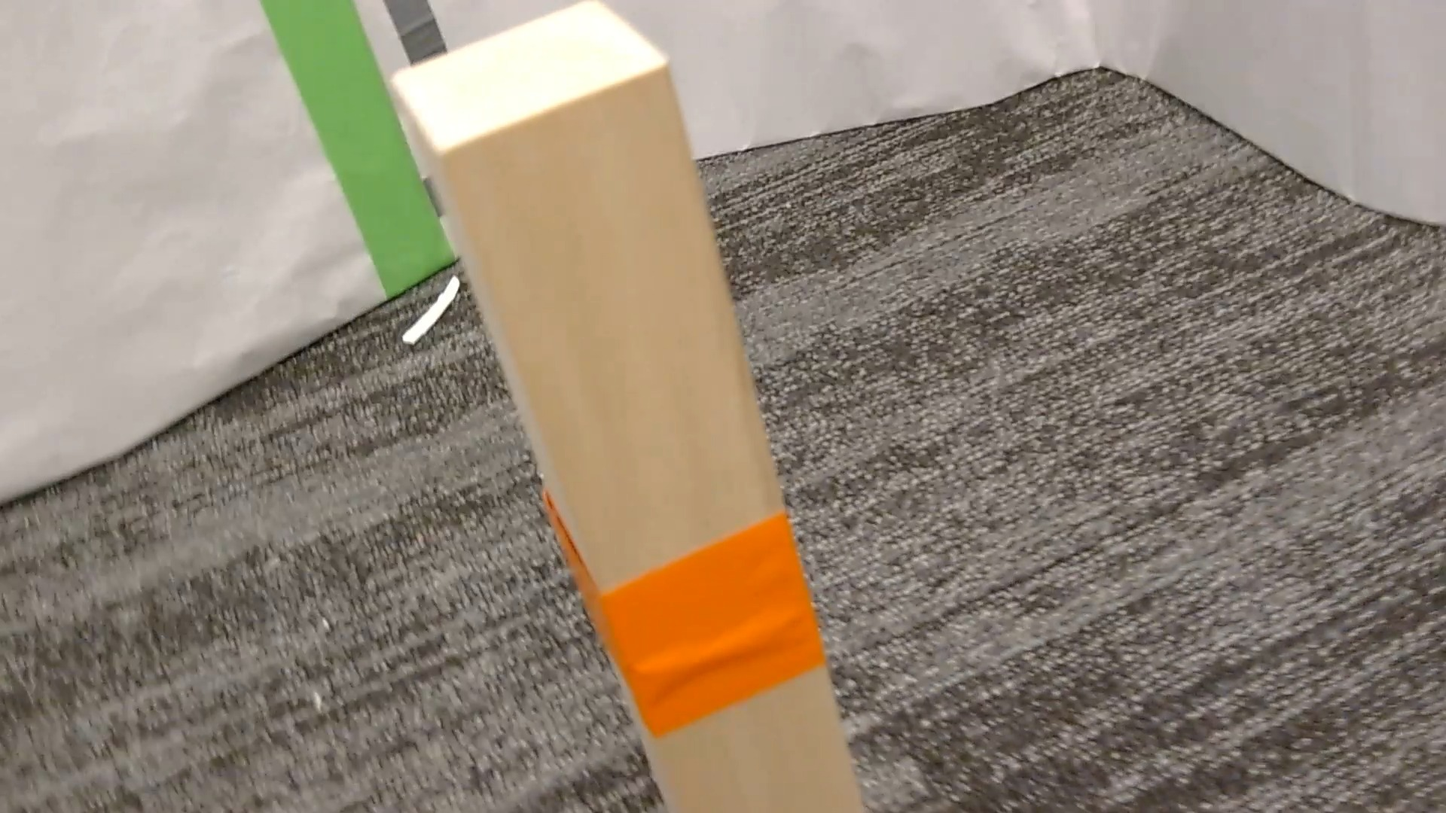Wooden Block: (392, 0, 862, 812)
